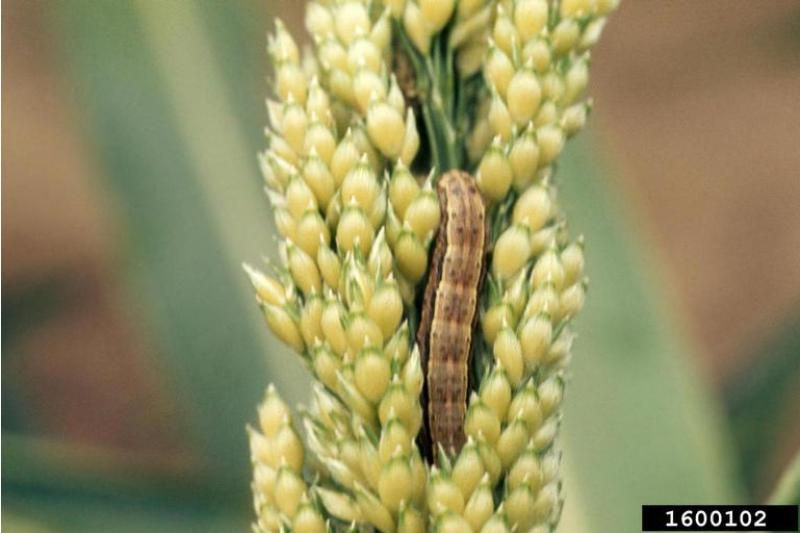fall-armyworm: (412, 171, 490, 475)
